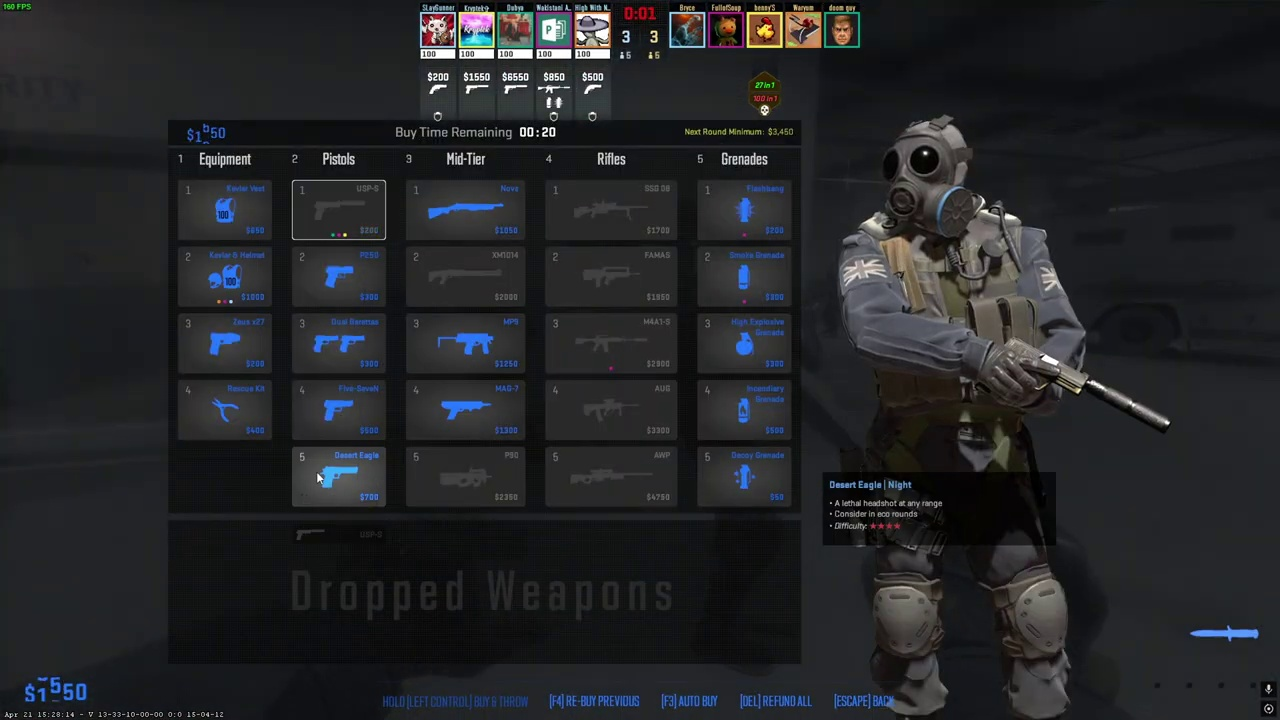CT: (852, 121, 1079, 720)
